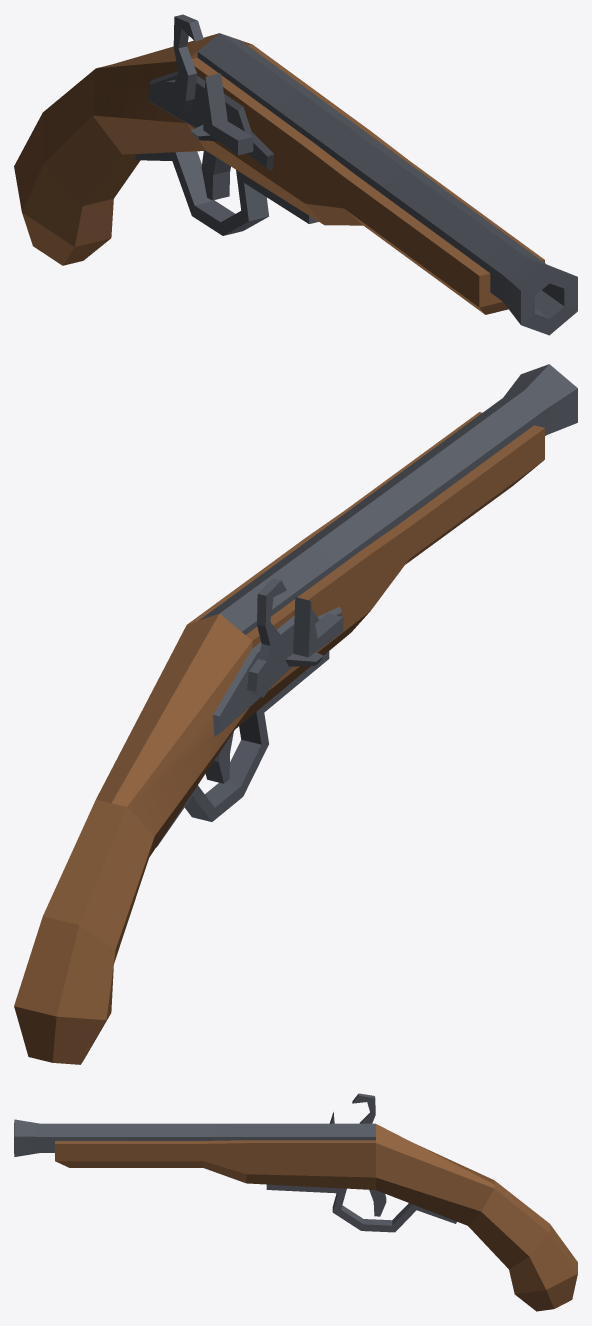
Rendered from Pistol.fbx.
3 renders of one model, top to bottom at view 1: azimuth 30°, elevation 25°; view 2: azimuth 150°, elevation 25°; view 3: azimuth 270°, elevation 25°, orthographic. The views are drawn at different scales.
Parts seen in each view (by area): view 1: Pistol; view 2: Pistol; view 3: Pistol.
Boxes of the visible parts, x1,y1,x2,y2 form: Pistol: (14,14,577,335); Pistol: (14,364,577,1064); Pistol: (14,1093,577,1311).
Bounding box in the file's own units: 8.06 × 27.16 × 68.38.
